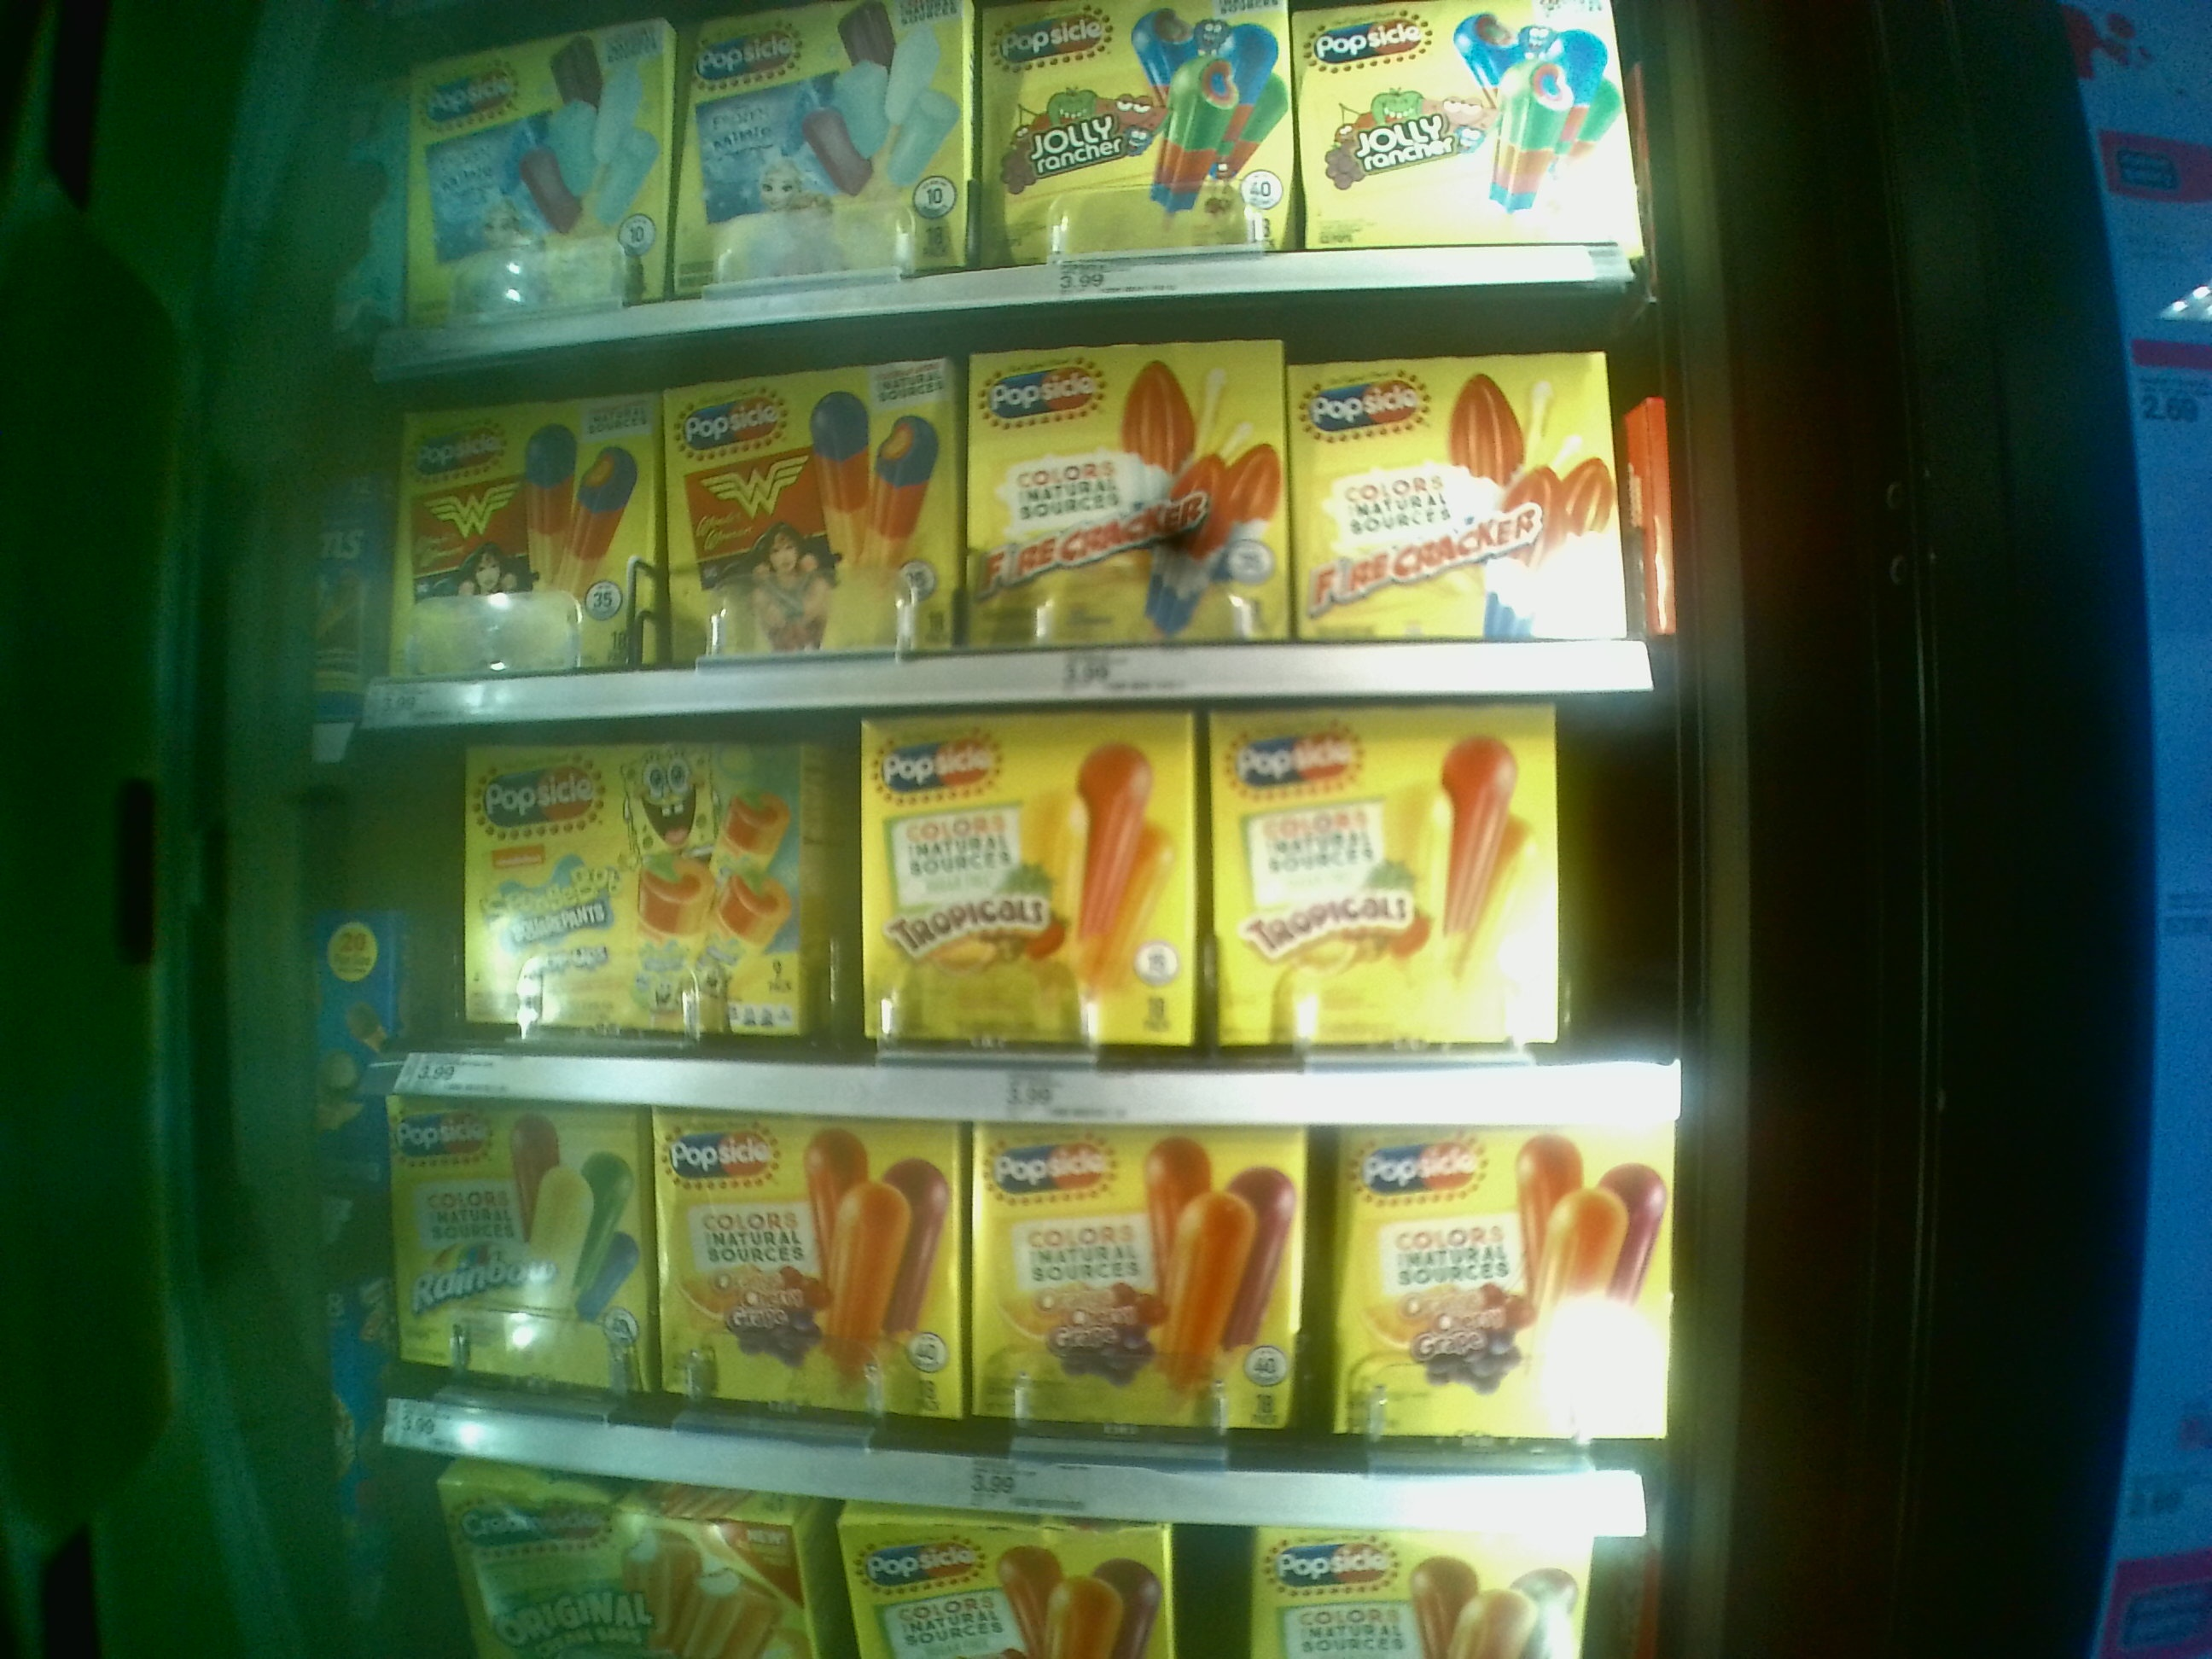shelf: (364, 723, 1674, 1122), (385, 301, 1669, 708), (394, 1108, 1677, 1490)
